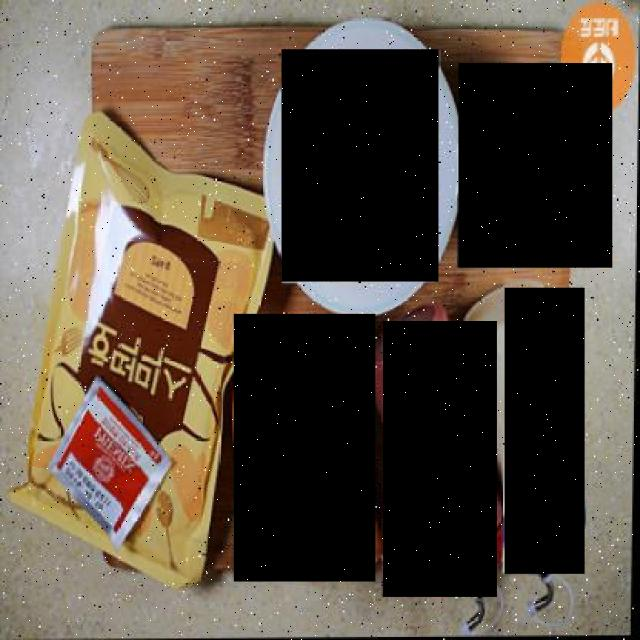Cheese: (282, 49, 440, 282)
Corn: (458, 63, 613, 268)
Ketchup: (384, 320, 498, 598)
Sausage: (235, 313, 376, 582)
mayonnaise: (504, 288, 585, 574)
